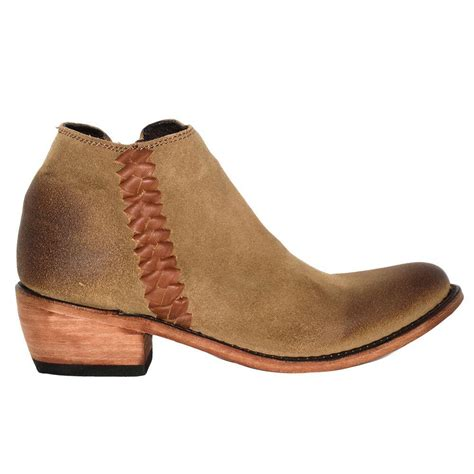gamuza: (16, 119, 452, 360)
